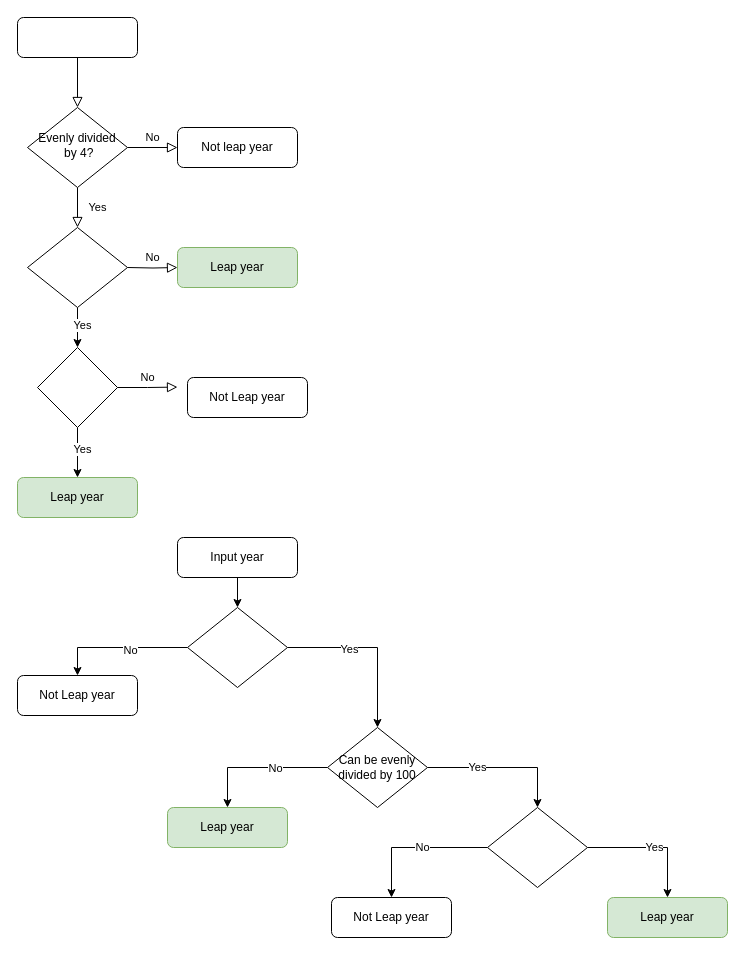
Some shapes in this 745 by 955 pixel diagram are drawn without their labels. Each missing label, with the box of its shape:
Can be evenly divided by 4: (186, 606, 288, 688)
Can be evenly divided by 400: (486, 806, 588, 888)
Evenly divided by 100?: (26, 226, 128, 308)
Evenly divided by 400?: (36, 346, 118, 428)
Input: (16, 16, 138, 58)
